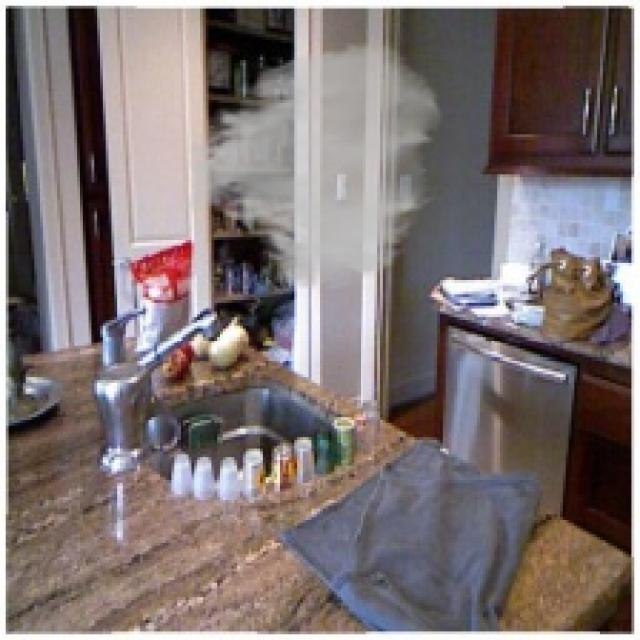smoke: (174, 40, 446, 294)
